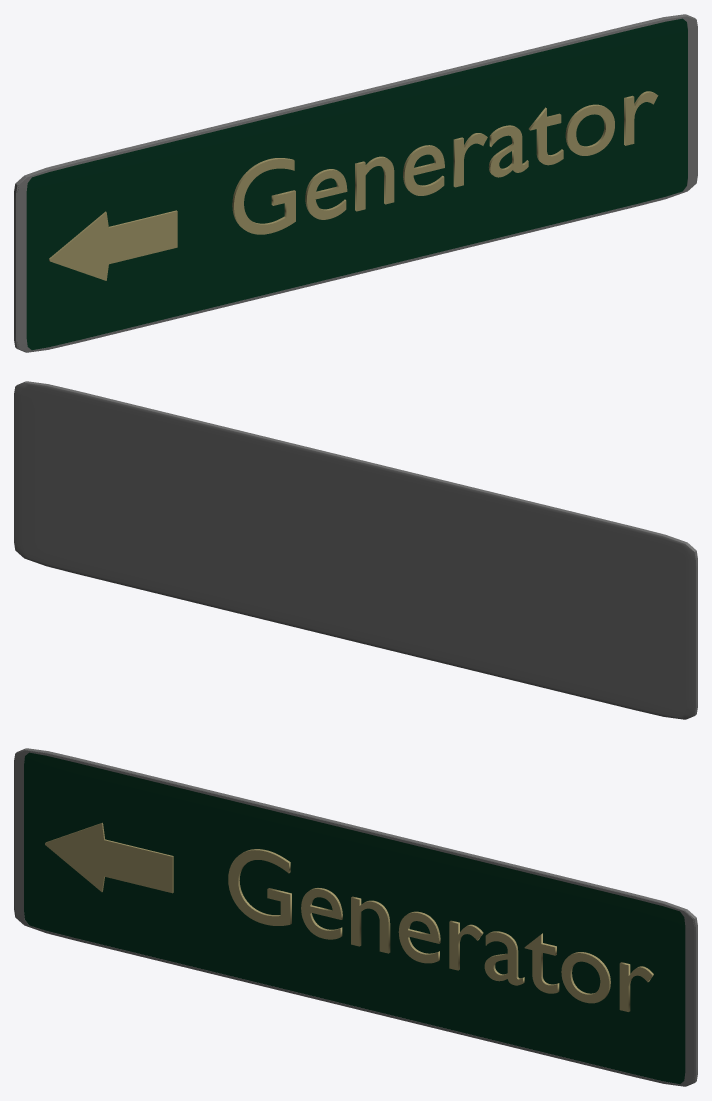
File: generator to the left.fbx
3 views of the same model, one above another, from view 1: azimuth 30°, elevation 25°; view 2: azimuth 150°, elevation 25°; view 3: azimuth 330°, elevation 25° (orthographic).
Visible parts, largest first — view 1: Cube.001, Text.001, Cube.003; view 2: Cube.001; view 3: Cube.001, Text.001, Cube.003.
Part boxes in pixels (box(x1,y1,x2,y2)): Cube.001: box(14, 14, 697, 352); Text.001: box(232, 91, 658, 234); Cube.003: box(49, 210, 177, 280); Cube.001: box(14, 381, 697, 719); Cube.001: box(14, 748, 697, 1086); Text.001: box(228, 849, 653, 1011); Cube.003: box(45, 822, 173, 893).
Size of the model in its own units: 1504 by 382 by 16.02.
